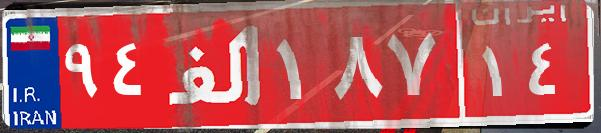1: (273, 28, 330, 110), (475, 38, 525, 113)
4: (110, 28, 158, 105), (525, 38, 570, 115)
7: (385, 28, 445, 110)
8: (330, 28, 385, 110)
9: (57, 26, 110, 107)
الف: (158, 15, 273, 115)
